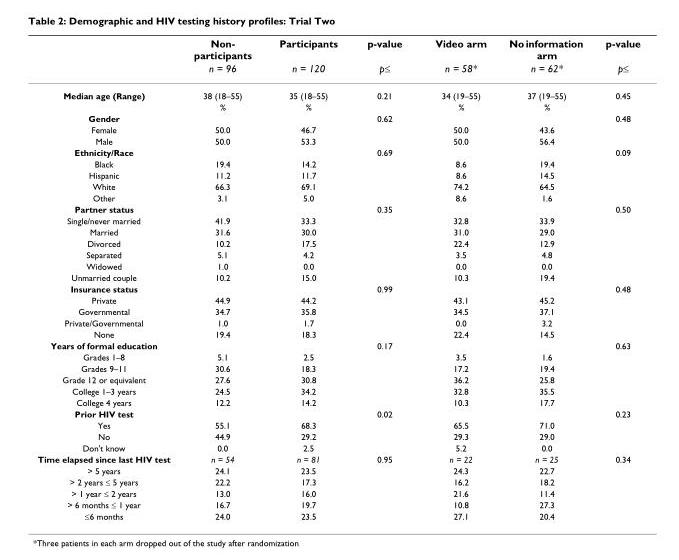table: (36, 36, 639, 520)
table column: (36, 36, 181, 520), (497, 36, 593, 520), (264, 36, 351, 520), (181, 36, 264, 520), (417, 36, 497, 520), (351, 36, 417, 520), (593, 36, 639, 520)
table column header: (36, 36, 639, 81)
table row: (36, 36, 639, 60), (36, 60, 639, 81), (36, 81, 639, 100), (36, 100, 639, 112), (36, 134, 639, 146), (36, 157, 639, 169), (36, 191, 639, 203), (36, 225, 639, 237), (36, 259, 639, 271), (36, 282, 639, 294), (36, 316, 639, 328), (36, 350, 639, 362), (36, 384, 639, 396), (36, 407, 639, 419), (36, 441, 639, 453), (36, 486, 639, 498), (36, 112, 639, 123), (36, 123, 639, 134), (36, 146, 639, 157), (36, 169, 639, 180), (36, 180, 639, 191), (36, 203, 639, 214), (36, 214, 639, 225), (36, 237, 639, 248), (36, 248, 639, 259), (36, 271, 639, 282), (36, 294, 639, 305), (36, 305, 639, 316), (36, 328, 639, 339), (36, 339, 639, 350), (36, 362, 639, 373), (36, 373, 639, 384), (36, 396, 639, 407), (36, 419, 639, 430), (36, 430, 639, 441), (36, 453, 639, 464), (36, 464, 639, 475), (36, 475, 639, 486), (36, 498, 639, 509), (36, 509, 639, 520)
table spanning cell: (36, 81, 181, 112), (497, 36, 593, 81), (264, 36, 351, 81), (181, 36, 264, 81), (417, 36, 497, 81), (351, 36, 417, 81), (593, 36, 639, 81)
